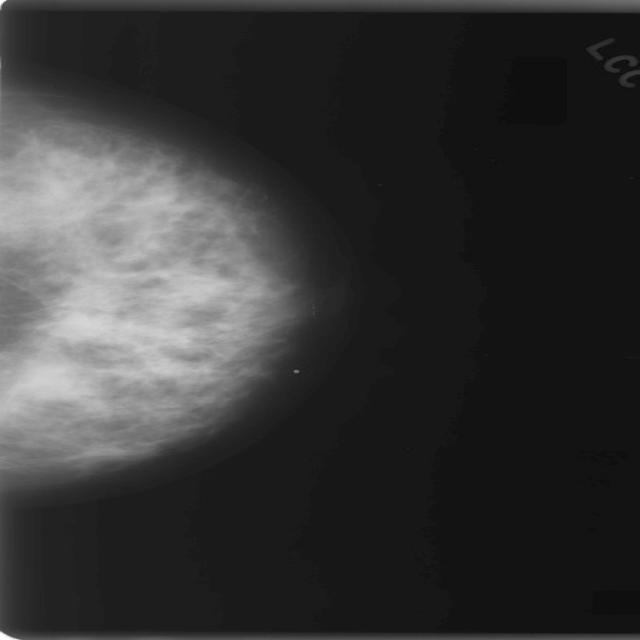tumour: (42, 311, 112, 342)
